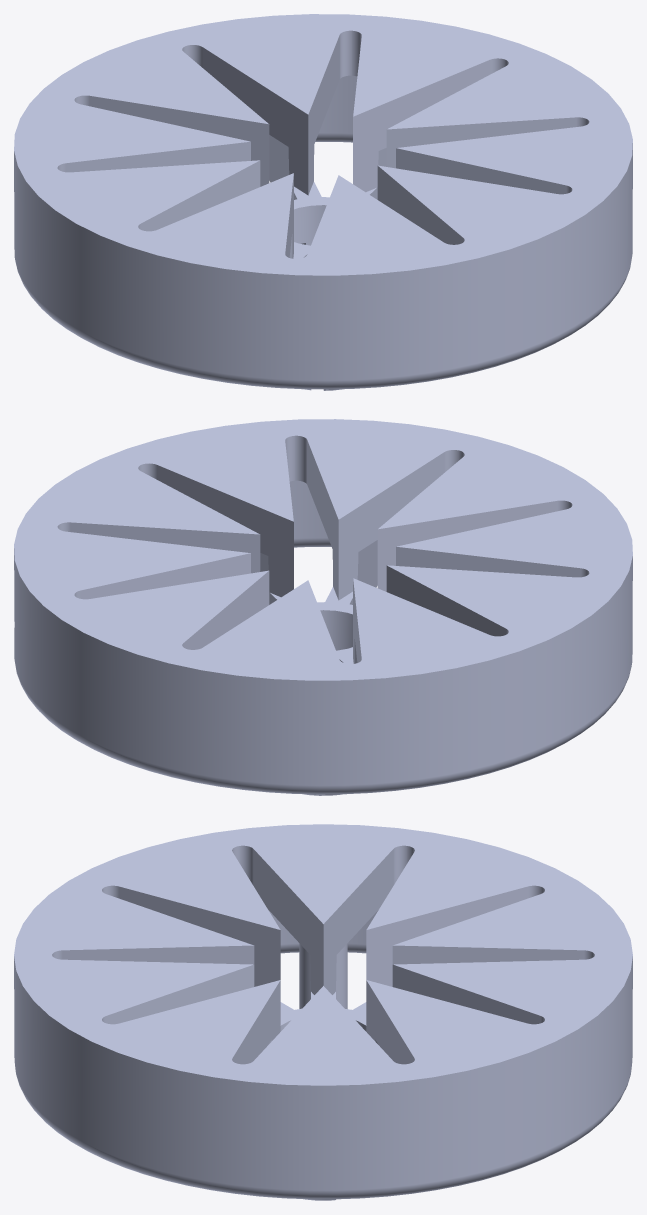
The model's file is Insert Rollover (C-901).fbx.
3 renders of one model, top to bottom at view 1: azimuth 30°, elevation 25°; view 2: azimuth 150°, elevation 25°; view 3: azimuth 270°, elevation 25°, orthographic.
Parts seen in each view (by area): view 1: rollover insert; view 2: rollover insert; view 3: rollover insert.
Boxes of the visible parts, bbox=[...] form: rollover insert: bbox=[14, 14, 632, 390]; rollover insert: bbox=[14, 419, 632, 795]; rollover insert: bbox=[14, 824, 632, 1200].
Bounding box in the file's own units: 3.02 × 1.2 × 3.02.
